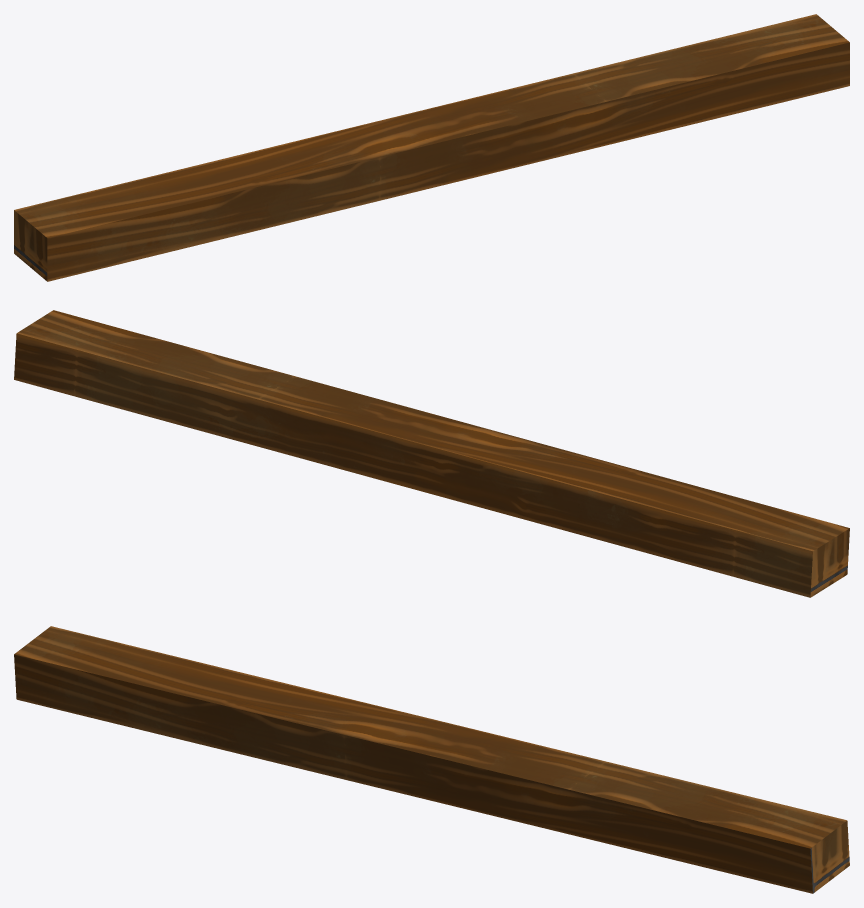
3 renders of one model, top to bottom at view 1: azimuth 30°, elevation 25°; view 2: azimuth 150°, elevation 25°; view 3: azimuth 330°, elevation 25°, orthographic. The views are drawn at different scales.
Parts seen in each view (by area): view 1: Cube.2028; view 2: Cube.2028; view 3: Cube.2028.
Part boxes in pixels (x1,y1,x2,y2): Cube.2028: [14, 14, 849, 281]; Cube.2028: [14, 310, 849, 597]; Cube.2028: [14, 626, 849, 893].
Size of the model in its own units: 548 by 38.95 by 57.36.
Materials: 1 (1 with a texture image).
